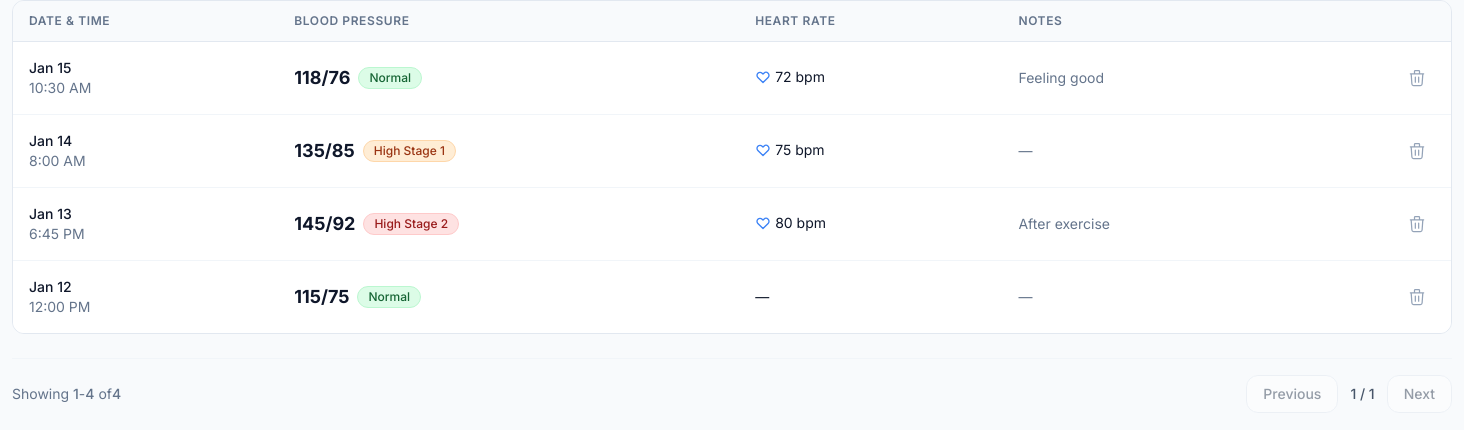
Test case: BPRecordsList › delete functionality › cancels delete when cancel button clicked
The image size is (1464, 430).
// Click delete to show confirmation
Click the button with test id "delete-button-1" at (1417, 78), box left=1399, top=60, right=1435, bottom=96
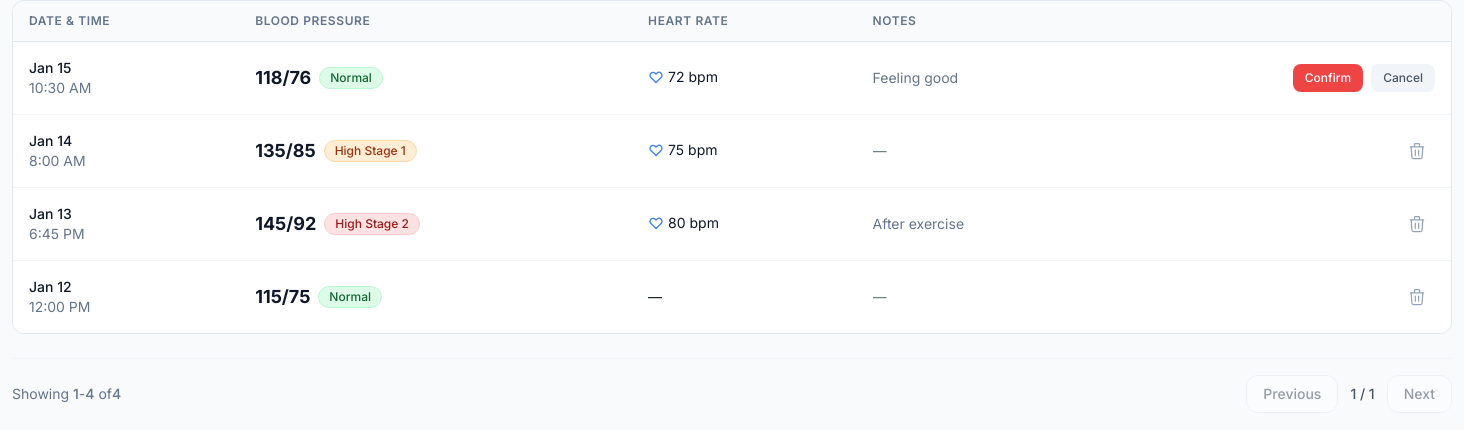
Check: the button with test id "confirm-delete-1" is shown, box left=1293, top=64, right=1363, bottom=92
// Click cancel
Click the button with test id "cancel-delete-1" at (1403, 78), box left=1371, top=64, right=1435, bottom=92
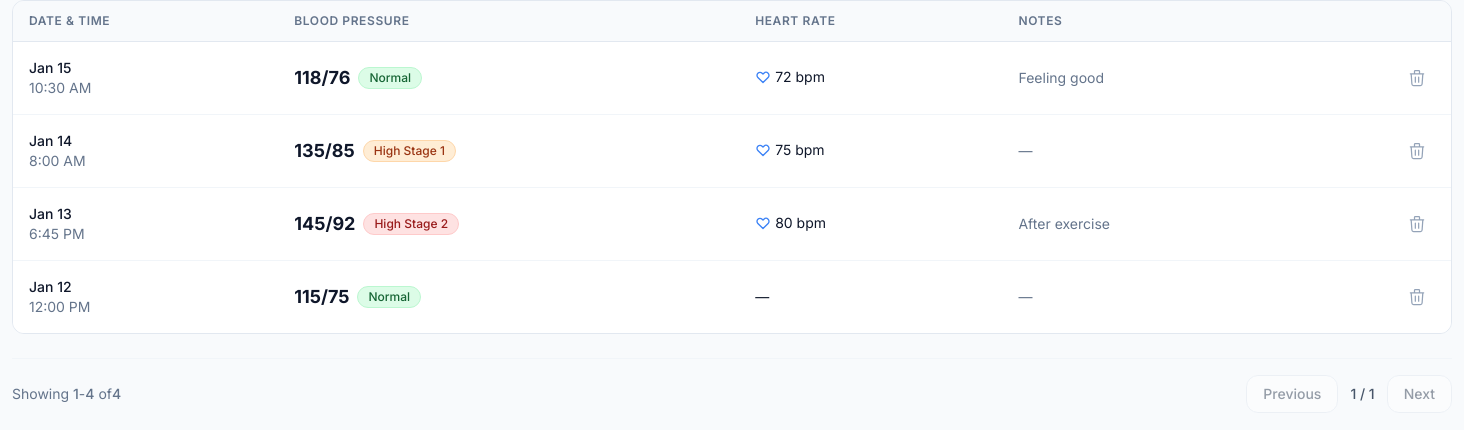
Check: the button with test id "delete-button-1" is shown, box left=1399, top=60, right=1435, bottom=96
Check: the button with test id "confirm-delete-1" is gone
